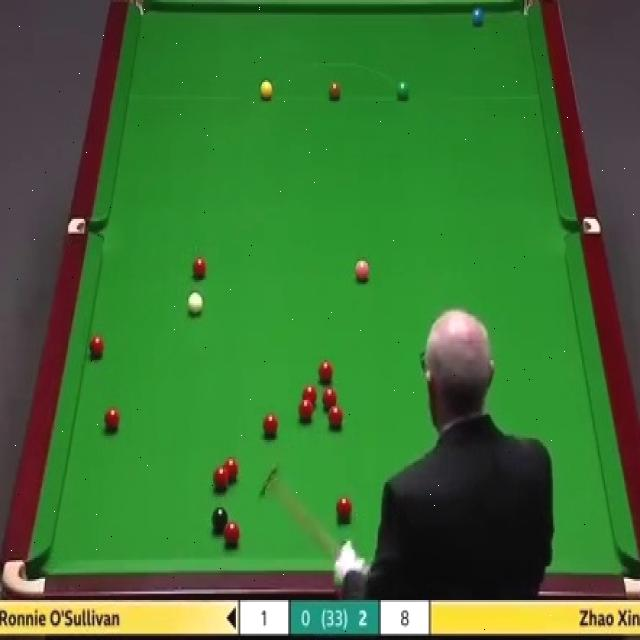black-ball: (212, 506, 227, 530)
blue-ball: (471, 10, 484, 26)
brown-ball: (328, 80, 341, 100)
green-ball: (395, 80, 408, 100)
pink-ball: (354, 261, 370, 284)
red-ball: (224, 518, 241, 548), (102, 404, 120, 431), (316, 360, 336, 383), (213, 465, 230, 490), (262, 411, 278, 436), (223, 457, 239, 481), (338, 496, 352, 523), (89, 333, 103, 359), (328, 402, 342, 428), (299, 400, 315, 422), (302, 384, 318, 405), (323, 387, 337, 409), (192, 258, 207, 278)
white-ball: (187, 292, 203, 318)
yellow-ball: (259, 80, 273, 100)
